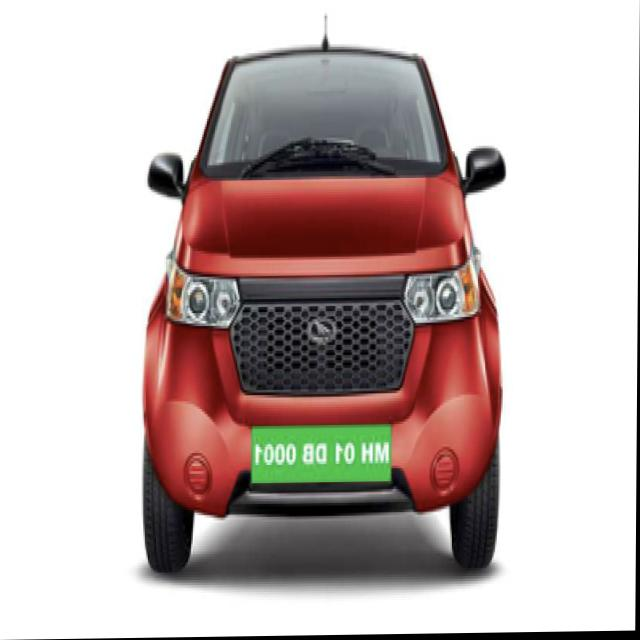licence: (250, 431, 397, 469)
